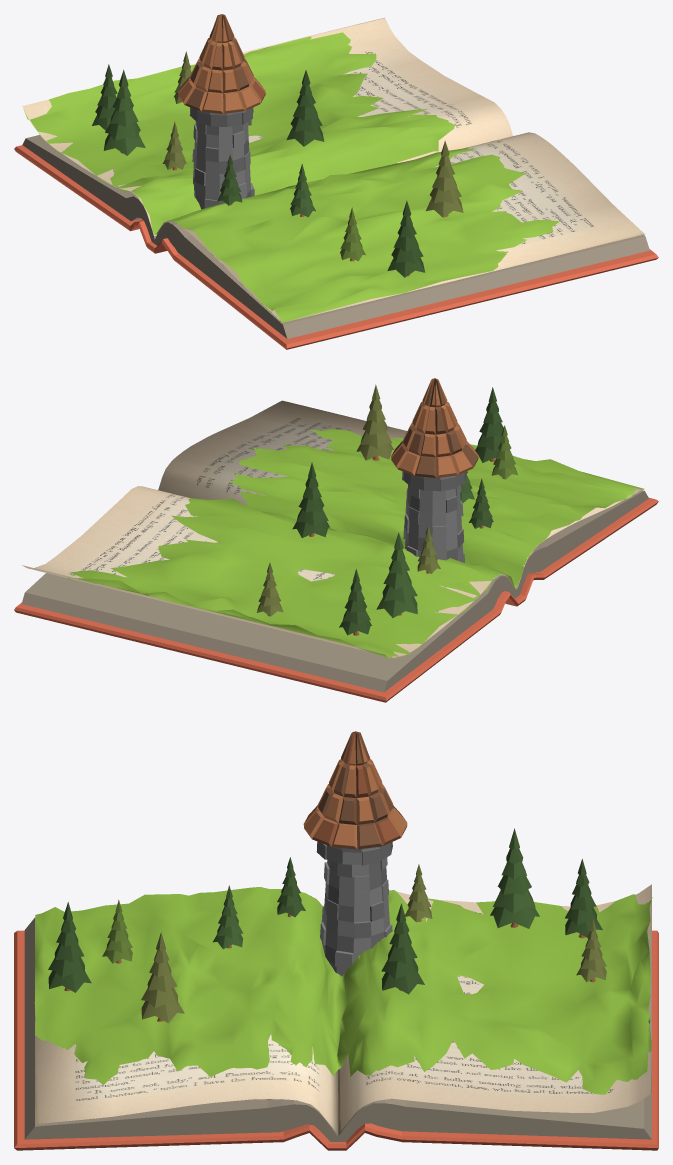
File: Environment.glb
The picture shows the model from 3 angles, top to bottom: view 1: azimuth 30°, elevation 25°; view 2: azimuth 150°, elevation 25°; view 3: azimuth 270°, elevation 25°; orthographic projection. The views are drawn at different scales.
Parts seen in each view (by area): view 1: Terrain, Book Middle Pages, Book Open Pages.001, Book Open Pages, Book Cover, Roof, Base, Pinetree Leaves.007, Pinetree Leaves.009, Pinetree Leaves.010, Pinetree Leaves.003, Tower (+5 smaller); view 2: Terrain, Book Middle Pages, Book Open Pages, Book Open Pages.001, Book Cover, Roof, Base, Pinetree Leaves.007, Pinetree Leaves.010, Pinetree Leaves.003, Pinetree Leaves.009, Pinetree Leaves.004 (+5 smaller); view 3: Terrain, Book Middle Pages, Book Open Pages.001, Book Open Pages, Book Cover, Roof, Base, Pinetree Leaves.007, Pinetree Leaves.010, Pinetree Leaves.009, Pinetree Leaves.003, Pinetree Leaves.004 (+6 smaller).
Part boxes in pixels (x1,y1,x2,y2): Terrain: (23,32,559,322); Book Middle Pages: (22,135,649,338); Book Open Pages.001: (155,132,644,322); Book Open Pages: (22,17,512,237); Book Cover: (14,145,658,349); Roof: (178,14,265,113); Base: (192,120,254,209); Pinetree Leaves.007: (103,69,145,155); Pinetree Leaves.009: (387,200,425,277); Pinetree Leaves.010: (426,140,463,217); Pinetree Leaves.003: (286,70,324,146); Tower: (189,107,253,126); Terrain: (67,429,643,658); Book Middle Pages: (21,490,648,692); Book Open Pages: (22,486,516,657); Book Open Pages.001: (158,400,644,591); Book Cover: (14,497,658,702); Roof: (391,378,478,477); Base: (403,485,464,563); Pinetree Leaves.007: (376,532,417,617); Pinetree Leaves.010: (356,384,393,460); Pinetree Leaves.003: (292,462,329,538); Pinetree Leaves.009: (475,387,503,462); Pinetree Leaves.004: (339,569,371,635); Terrain: (34,887,652,1094); Book Middle Pages: (24,917,651,1141); Book Open Pages.001: (35,896,338,1134); Book Open Pages: (338,884,651,1134); Book Cover: (14,930,658,1150); Roof: (303,731,407,849); Base: (320,857,392,976); Pinetree Leaves.007: (490,828,539,928); Pinetree Leaves.010: (141,932,184,1022); Pinetree Leaves.009: (48,902,91,992); Pinetree Leaves.003: (381,903,424,994); Pinetree Leaves.004: (565,859,602,938).
Size of the model in its own units: 25.81 by 14.05 by 32.71.
Materials: 15 (2 with a texture image).
